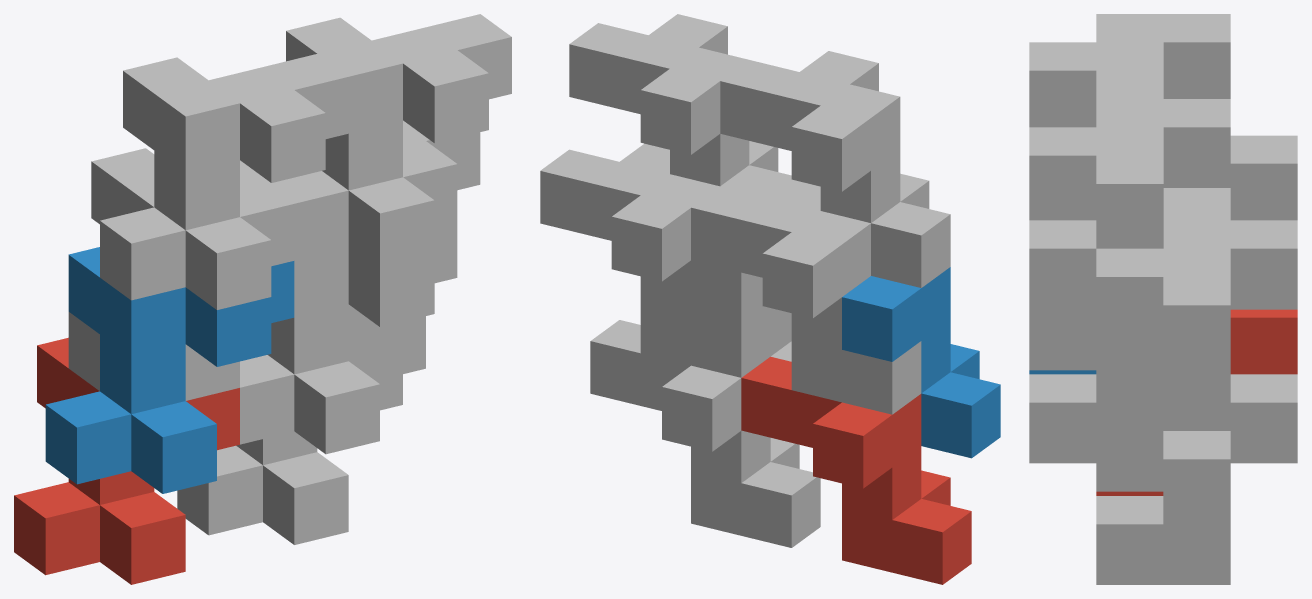
Rendered from tiling.obj.
3 views of the same model, side by side, from view 1: azimuth 30°, elevation 25°; view 2: azimuth 150°, elevation 25°; view 3: azimuth 270°, elevation 25° (orthographic). The views are drawn at different scales.
Parts seen in each view (by area): view 1: copy_1_domain_4, copy_1_domain_8, copy_1_domain_2, copy_1_domain_6, copy_1_domain_1, copy_1_domain_5, copy_1_domain_3, copy_1_domain_7; view 2: copy_1_domain_4, copy_1_domain_3, copy_1_domain_1, copy_1_domain_7, copy_1_domain_5, copy_1_domain_8, copy_1_domain_2, copy_1_domain_6; view 3: copy_1_domain_7, copy_1_domain_8, copy_1_domain_5, copy_1_domain_4, copy_1_domain_6, copy_1_domain_3, copy_1_domain_1.
Boxes of the visible parts, x1,y1,x2,y2 form: copy_1_domain_4: (100,54,348,309); copy_1_domain_8: (263,14,511,270); copy_1_domain_2: (45,247,294,493); copy_1_domain_6: (240,221,457,454); copy_1_domain_1: (14,337,239,584); copy_1_domain_5: (177,316,425,544); copy_1_domain_3: (68,148,294,400); copy_1_domain_7: (348,120,480,360); copy_1_domain_4: (720,51,950,287); copy_1_domain_3: (691,180,921,414); copy_1_domain_1: (741,356,971,584); copy_1_domain_7: (540,143,770,377); copy_1_domain_5: (590,320,820,547); copy_1_domain_8: (569,14,794,198); copy_1_domain_2: (842,267,1000,458); copy_1_domain_6: (691,260,791,361); copy_1_domain_7: (1096,220,1297,430); copy_1_domain_8: (1029,99,1230,309); copy_1_domain_5: (1096,374,1297,584); copy_1_domain_4: (1029,14,1230,220); copy_1_domain_6: (1029,309,1163,463); copy_1_domain_3: (1163,135,1297,220); copy_1_domain_1: (1096,309,1297,495).
Size of the model in its own units: 8 by 8 by 4.
